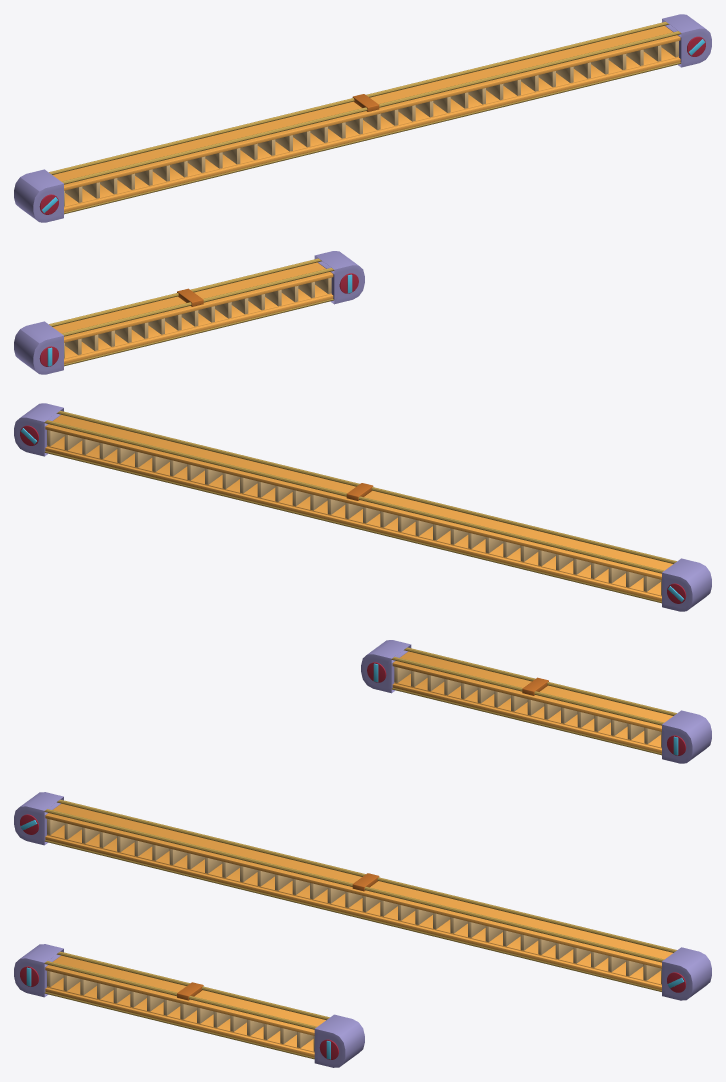
Rendered from Floor_Three.fbx.
The picture shows the model from 3 angles, top to bottom: view 1: azimuth 30°, elevation 25°; view 2: azimuth 150°, elevation 25°; view 3: azimuth 330°, elevation 25°; orthographic projection.
Visible parts, largest first — view 1: Cube.010, Cube.003, Cylinder.005, Cube.009, Cube.005, Cylinder.001, Cube.002, Cube.011, Cube.021, Cube.019; view 2: Cube.010, Cube.003, Cylinder.005, Cube.009, Cube.005, Cylinder.001, Cube.002, Cube.011, Cube.021, Cube.019; view 3: Cube.010, Cube.003, Cylinder.005, Cube.009, Cube.005, Cylinder.001, Cube.021, Cube.019, Cube.011, Cube.002.
Part boxes in pixels (x1,y1,x2,y2): Cube.010: (53, 26, 680, 212); Cube.003: (53, 262, 333, 364); Cylinder.005: (49, 21, 681, 214); Cube.009: (64, 41, 678, 206); Cube.005: (64, 277, 331, 358); Cylinder.001: (49, 258, 334, 366); Cube.002: (14, 321, 63, 374); Cube.011: (14, 169, 63, 222); Cube.021: (314, 251, 364, 304); Cube.019: (662, 14, 711, 67); Cube.010: (45, 415, 672, 601); Cube.003: (392, 651, 672, 753); Cylinder.005: (44, 410, 676, 603); Cube.009: (47, 430, 661, 595); Cube.005: (394, 666, 661, 747); Cylinder.001: (391, 647, 676, 755); Cube.002: (662, 710, 711, 763); Cube.011: (662, 558, 711, 611); Cube.021: (361, 640, 411, 693); Cube.019: (14, 403, 63, 456); Cube.010: (45, 803, 672, 989); Cube.003: (45, 955, 325, 1057); Cylinder.005: (44, 799, 676, 991); Cube.009: (47, 819, 661, 984); Cube.005: (47, 970, 314, 1051); Cylinder.001: (44, 951, 329, 1059); Cube.021: (314, 1014, 364, 1067); Cube.019: (662, 947, 711, 1000); Cube.011: (14, 792, 63, 845); Cube.002: (14, 944, 63, 997).
Size of the model in its own units: 5326 by 1400 by 294.
